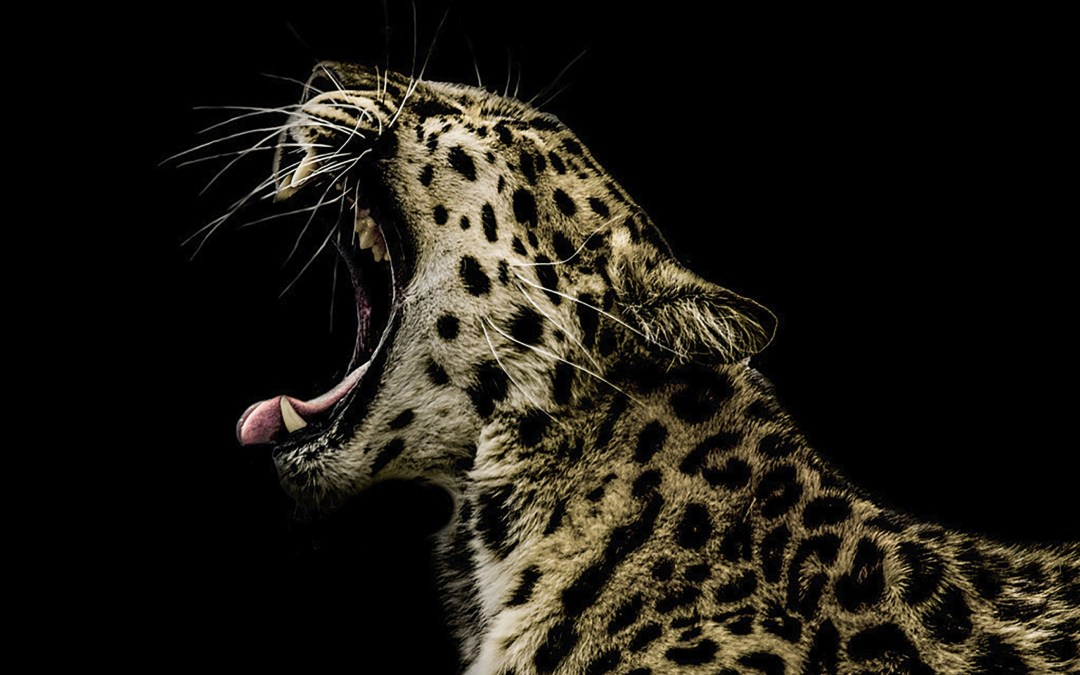amur_leopard: (152, 27, 945, 570)
